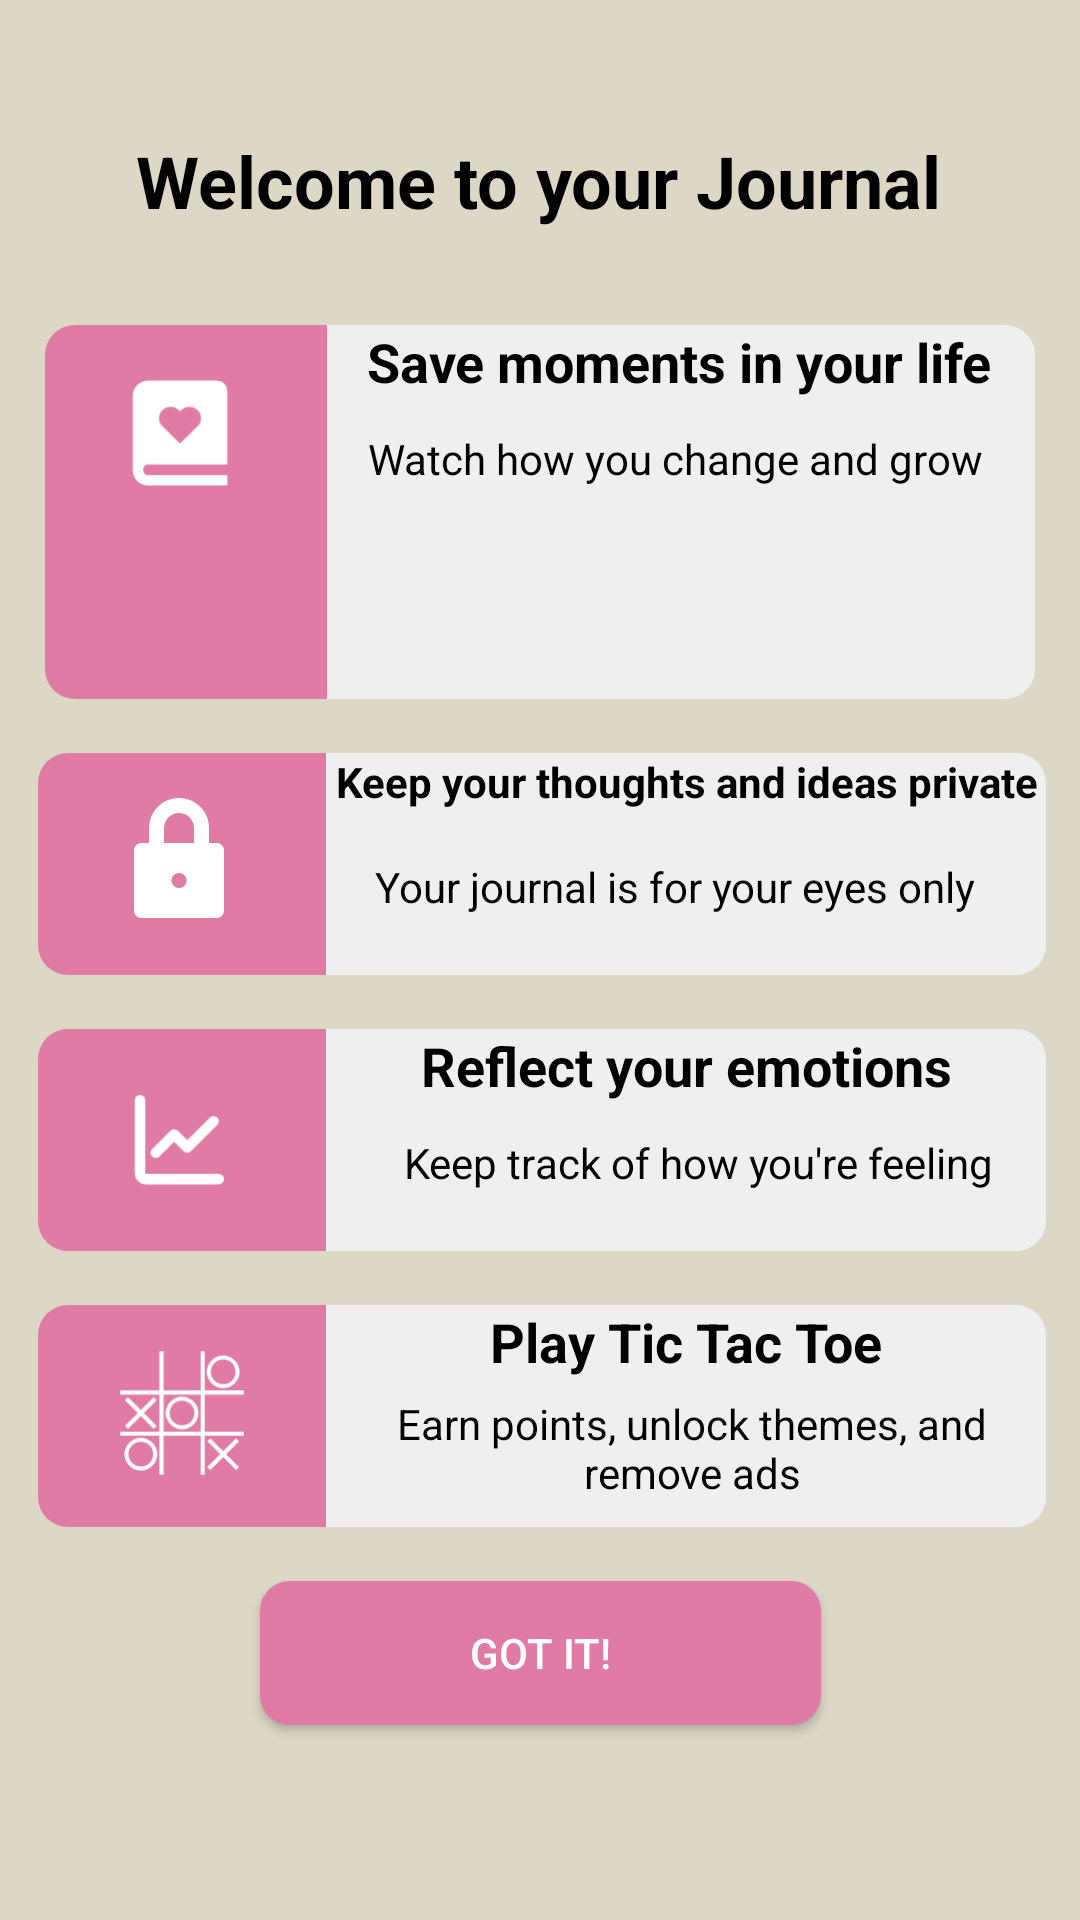

Icons on this 1080×1920 Android screen, each with its box as box=[x1, y1, x2, y2]:
book heart: box=[132, 380, 228, 486]
graph: box=[134, 1095, 224, 1185]
secure: box=[134, 798, 224, 918]
